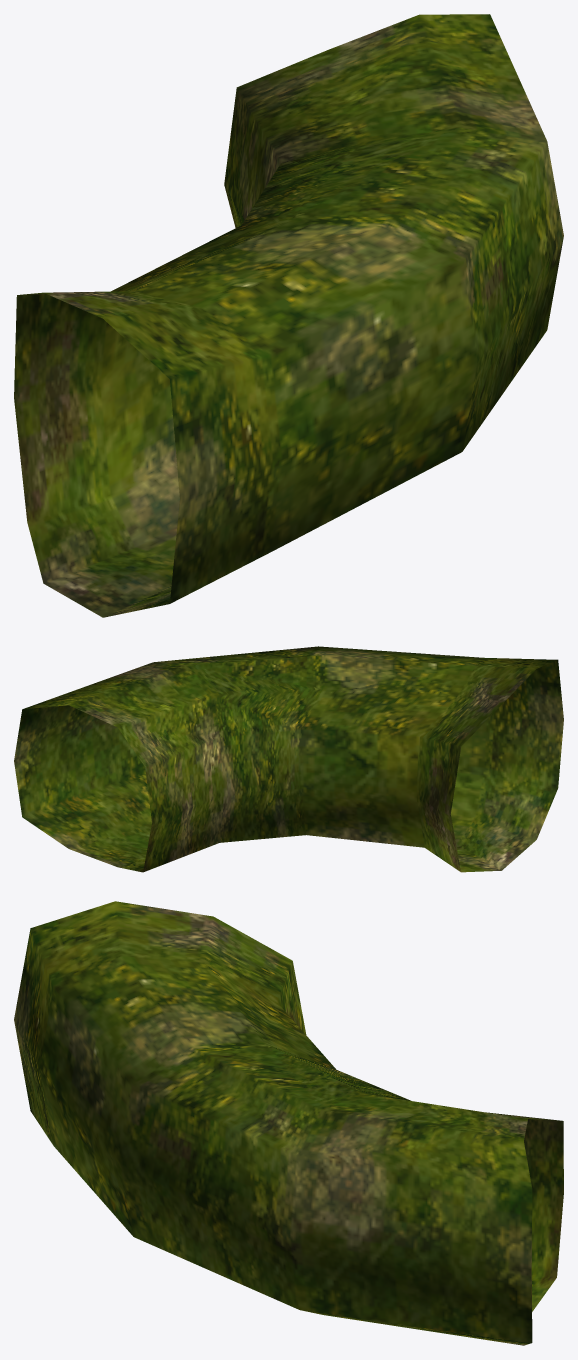
File: OVERHILL_A_01_LINE32.fbx
3 renders of one model, top to bottom at view 1: azimuth 30°, elevation 25°; view 2: azimuth 150°, elevation 25°; view 3: azimuth 270°, elevation 25°, orthographic. The views are drawn at different scales.
Parts seen in each view (by area): view 1: OVERHILL_A_01_LINE32; view 2: OVERHILL_A_01_LINE32; view 3: OVERHILL_A_01_LINE32.
Boxes of the visible parts, left/top/right/bottom form: OVERHILL_A_01_LINE32: left=14, top=14, right=563, bottom=617; OVERHILL_A_01_LINE32: left=14, top=646, right=563, bottom=872; OVERHILL_A_01_LINE32: left=14, top=901, right=563, bottom=1345.
Size of the model in its own units: 52279 by 23471 by 46509.
1 material, 1 textured.
